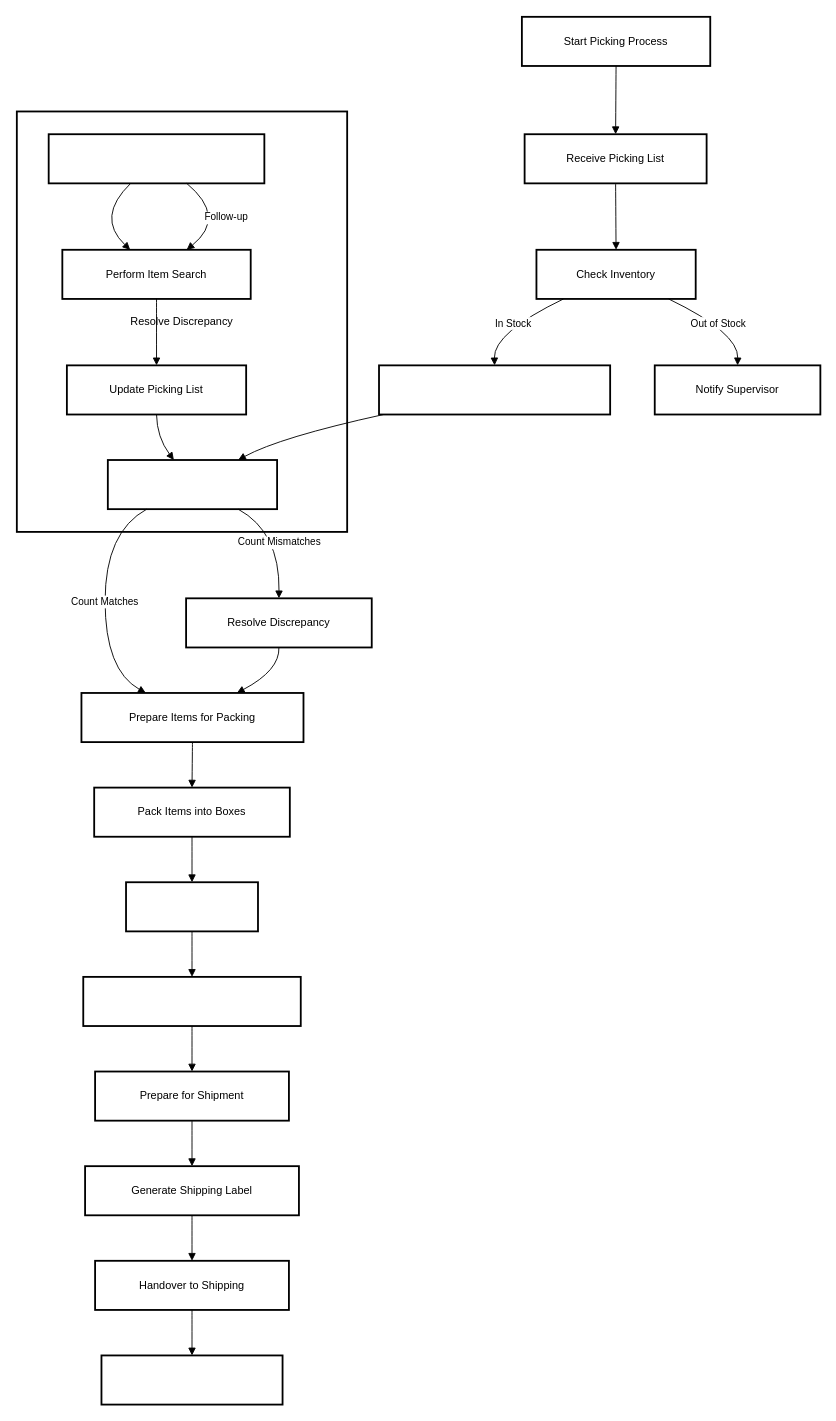
Image size: 836x1421. Some labels were removed from this diagram. The centre of each missing label's shape, as x and y in pixels:
"Contact Warehouse Staff" goes at (156,158).
"End Picking Process" goes at (191,1379).
"Label Boxes" goes at (191,906).
"Pick Items from Warehouse" goes at (494,389).
"Update Inventory System" goes at (191,1001).
"Verify Item Count" goes at (192,484).
